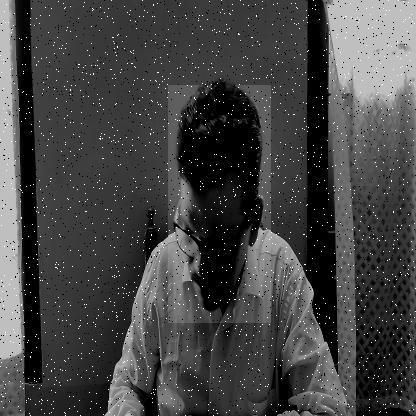Distracted: (168, 86, 271, 324)
